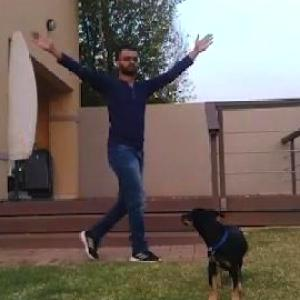takeoff: (24, 24, 219, 266)
